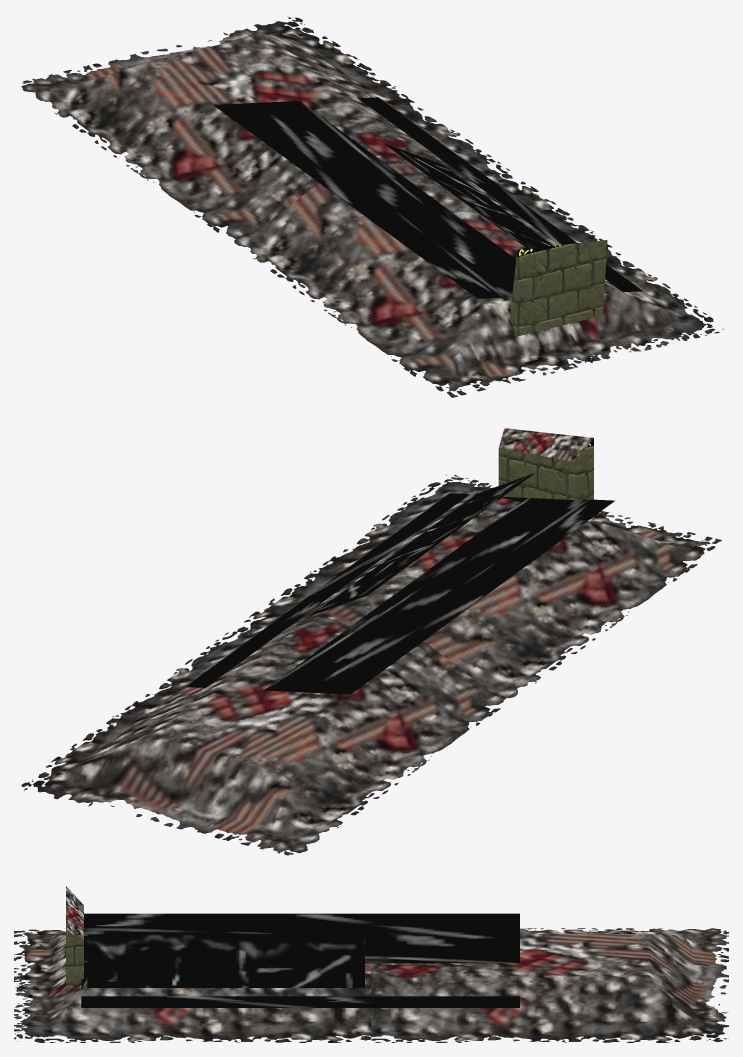
Rendered from l_elitebarracks_dam.glb.
3 renders of one model, top to bottom at view 1: azimuth 30°, elevation 25°; view 2: azimuth 150°, elevation 25°; view 3: azimuth 270°, elevation 25°, orthographic. The views are drawn at different scales.
Parts seen in each view (by area): view 1: Box01; view 2: Box01; view 3: Box01.
Part boxes in pixels (bbox=[...]): Box01: bbox=[21, 16, 723, 397]; Box01: bbox=[21, 428, 721, 855]; Box01: bbox=[14, 886, 728, 1042].
Bounding box in the file's own units: 15.47 × 5.3 × 40.84.
3 materials, 3 textured.
